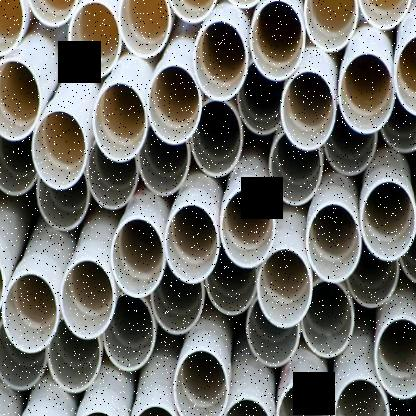pipe: (2, 270, 59, 353), (360, 178, 416, 262), (249, 0, 306, 81), (60, 258, 116, 340), (339, 52, 395, 134), (280, 70, 336, 151), (220, 186, 275, 268), (306, 202, 361, 284), (110, 216, 165, 298), (193, 20, 248, 102), (147, 63, 201, 146), (257, 247, 312, 328), (92, 82, 147, 162), (165, 204, 219, 284), (103, 292, 156, 372), (32, 110, 85, 189), (301, 279, 354, 358), (68, 1, 122, 78), (47, 318, 102, 393), (191, 99, 243, 178), (269, 132, 323, 206), (151, 260, 204, 335), (137, 122, 191, 195), (324, 102, 377, 176), (205, 241, 258, 315), (246, 297, 301, 367), (173, 349, 230, 416), (373, 314, 416, 400), (86, 139, 138, 210), (237, 59, 285, 135), (0, 318, 47, 390), (0, 58, 40, 141), (118, 0, 170, 58), (37, 175, 90, 231), (304, 0, 358, 54), (346, 258, 399, 307), (0, 131, 37, 196), (332, 375, 389, 416), (275, 377, 333, 416), (380, 90, 416, 152), (27, 0, 78, 28), (0, 0, 25, 57), (166, 0, 219, 24), (221, 396, 273, 416)
